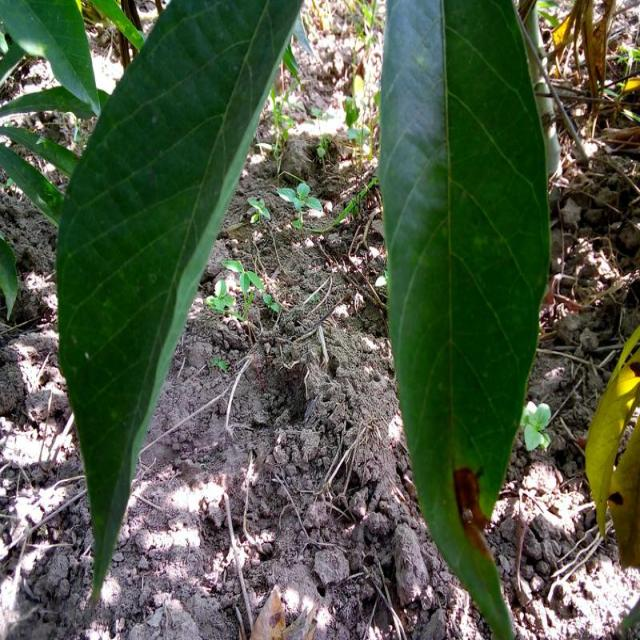cassava leaf: (55, 0, 308, 602), (378, 0, 553, 637)
